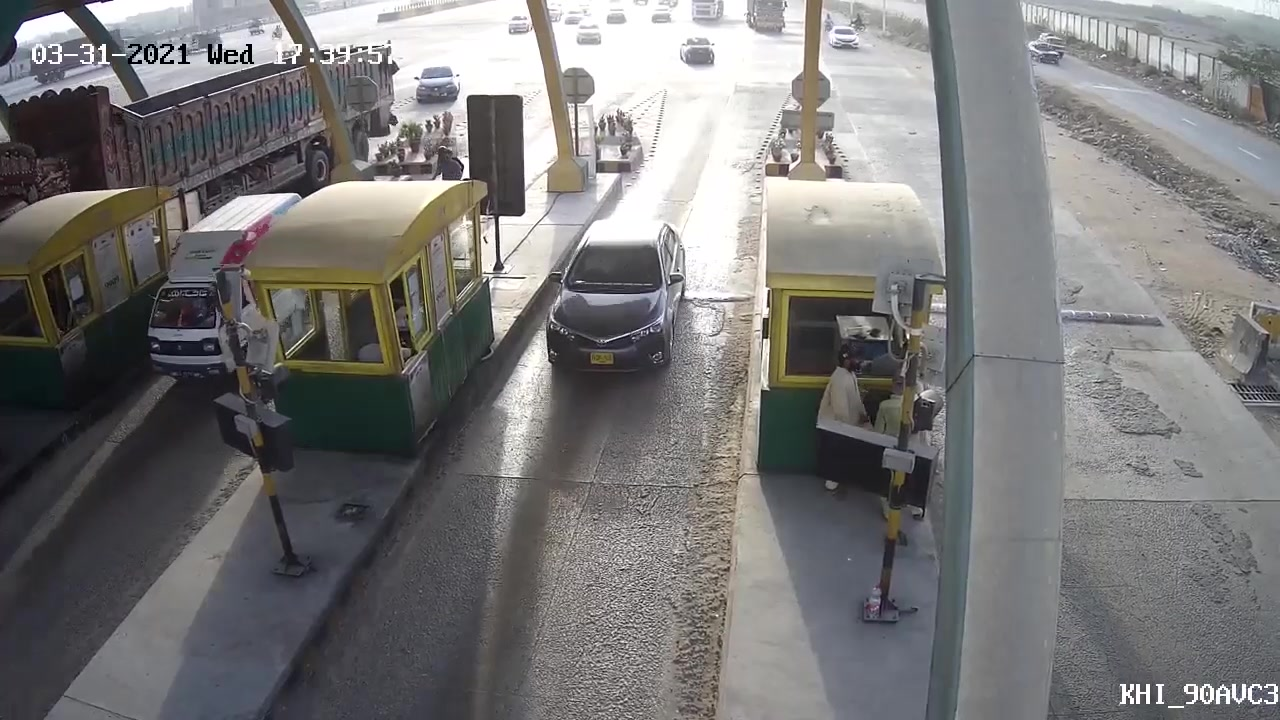F1: (533, 216, 692, 389)
